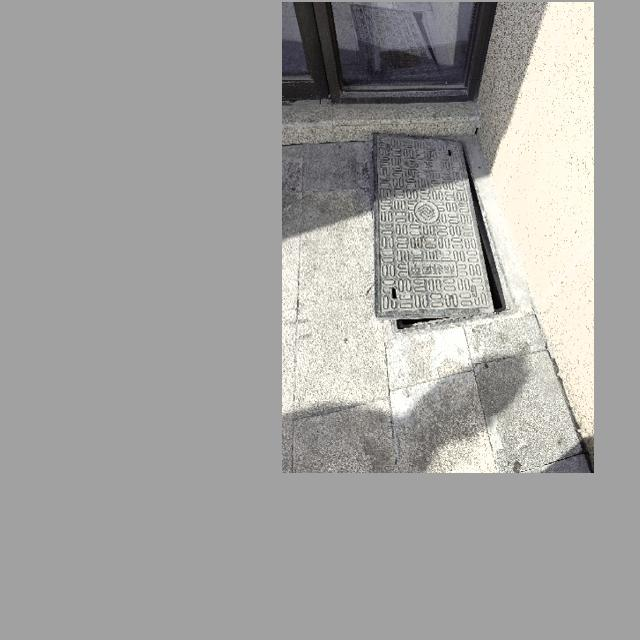uncovered: (375, 129, 517, 333)
